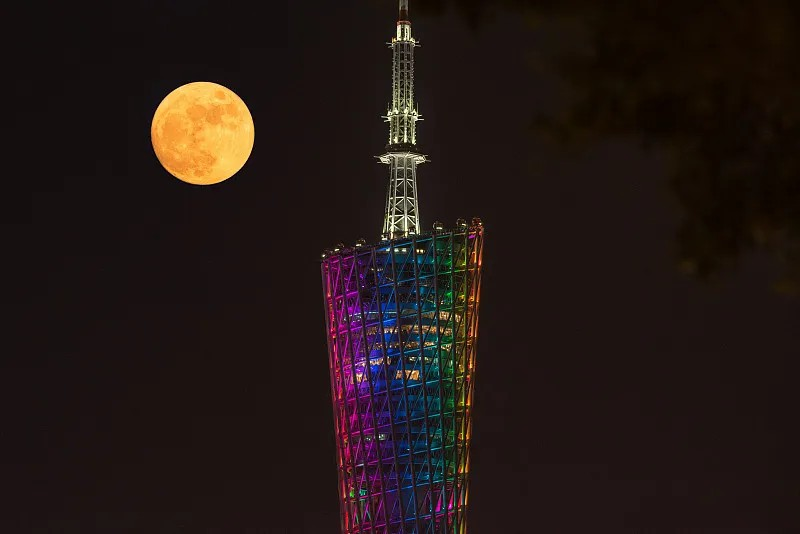Canton: (317, 4, 485, 534)
